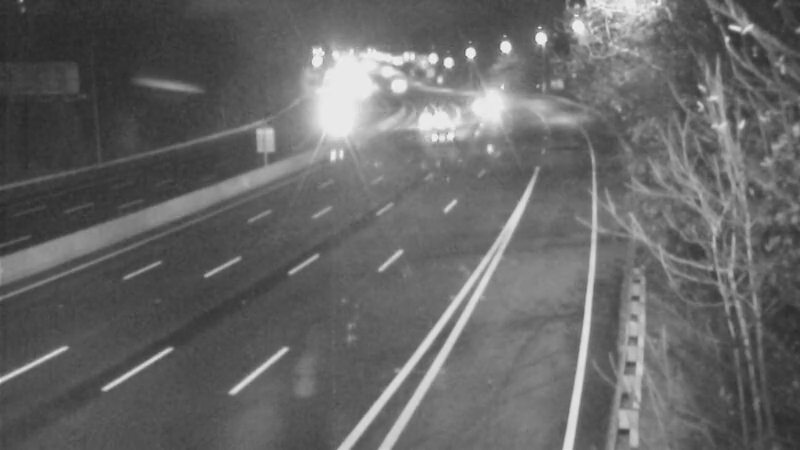vehicle: (371, 61, 421, 111), (459, 73, 509, 123), (450, 82, 500, 132), (407, 89, 457, 139), (419, 114, 469, 164), (310, 95, 360, 145)
